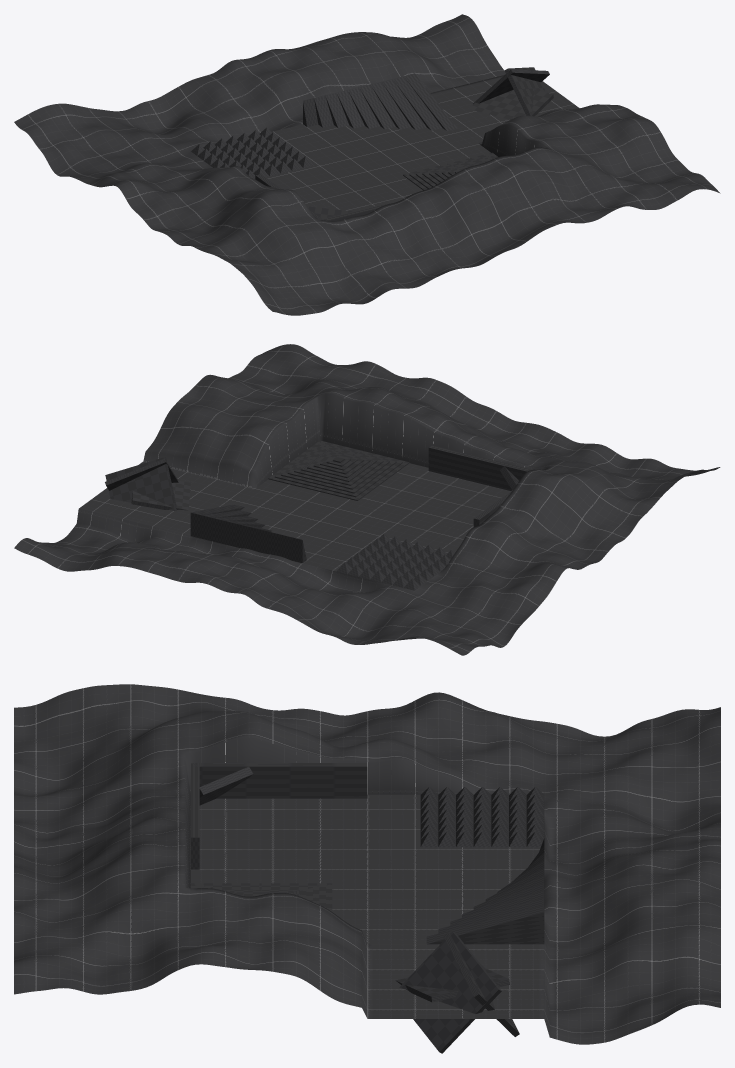
Rendered from playground.glb.
The picture shows the model from 3 angles, top to bottom: view 1: azimuth 30°, elevation 25°; view 2: azimuth 150°, elevation 25°; view 3: azimuth 270°, elevation 25°; orthographic projection. The views are drawn at different scales.
Visible parts, largest first — view 1: Base, Cube, Cube.018, Cube.015, Cube.007, Cube.001, Cube.002, Cube.003, Cube.004, Cube.008, Cube.009, Cube.005 (+1 smaller); view 2: Base, Cube, Cube.005, Cube.018, Cube.007, Cube.014, Cube.017, Cube.015, Cube.016, Cube.001, Cube.002; view 3: Base, Cube, Cube.005, Cube.018, Cube.001, Cube.007, Cube.006, Cube.015, Cube.002, Cube.017, Cube.003.
Boxes of the visible parts, left/top/right/bottom form: Base: left=14, top=14, right=720, bottom=315; Cube: left=191, top=127, right=314, bottom=179; Cube.018: left=473, top=67, right=549, bottom=116; Cube.015: left=469, top=80, right=553, bottom=119; Cube.007: left=403, top=163, right=464, bottom=190; Cube.001: left=404, top=73, right=457, bottom=130; Cube.002: left=393, top=76, right=442, bottom=130; Cube.003: left=381, top=79, right=426, bottom=129; Cube.004: left=370, top=81, right=410, bottom=129; Cube.008: left=359, top=84, right=395, bottom=129; Cube.009: left=348, top=87, right=379, bottom=128; Cube.005: left=255, top=174, right=401, bottom=220; Base: left=14, top=344, right=720, bottom=655; Cube: left=336, top=533, right=454, bottom=590; Cube.005: left=428, top=445, right=532, bottom=526; Cube.018: left=105, top=457, right=178, bottom=511; Cube.007: left=313, top=459, right=383, bottom=500; Cube.014: left=268, top=458, right=338, bottom=489; Cube.017: left=339, top=451, right=409, bottom=481; Cube.015: left=131, top=480, right=190, bottom=510; Cube.016: left=294, top=440, right=364, bottom=459; Cube.001: left=190, top=504, right=244, bottom=538; Cube.002: left=201, top=510, right=251, bottom=541; Base: left=14, top=684, right=720, bottom=1044; Cube: left=420, top=787, right=544, bottom=847; Cube.005: left=191, top=763, right=367, bottom=869; Cube.018: left=399, top=931, right=519, bottom=1053; Cube.001: left=426, top=905, right=544, bottom=944; Cube.007: left=261, top=883, right=332, bottom=911; Cube.006: left=199, top=767, right=253, bottom=805; Cube.015: left=395, top=967, right=509, bottom=1002; Cube.002: left=438, top=897, right=544, bottom=933; Cube.017: left=191, top=883, right=261, bottom=896; Cube.003: left=450, top=890, right=544, bottom=925.
Bounding box in the file's own units: 120 × 19.8 × 120.
2 materials, 2 textured.
